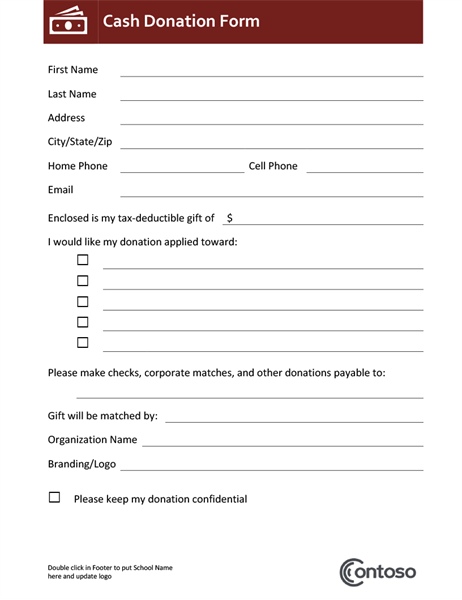checkbox: (75, 272, 92, 289), (74, 251, 90, 268), (73, 335, 91, 350), (74, 313, 90, 329), (47, 489, 62, 506), (74, 293, 89, 309)
textline: (73, 380, 426, 403), (116, 57, 426, 82), (99, 251, 424, 272), (116, 179, 426, 201), (98, 295, 426, 315), (115, 131, 426, 152), (97, 315, 428, 334), (99, 336, 429, 355), (116, 108, 427, 128), (117, 453, 428, 473), (116, 85, 427, 104), (139, 430, 426, 450), (160, 406, 426, 426), (99, 277, 425, 293), (237, 206, 428, 229), (116, 157, 247, 176), (304, 157, 426, 176)
